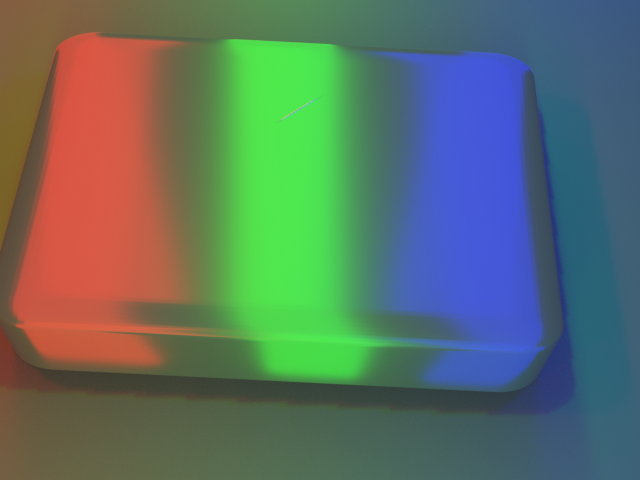scratch: (194, 42, 395, 149)
